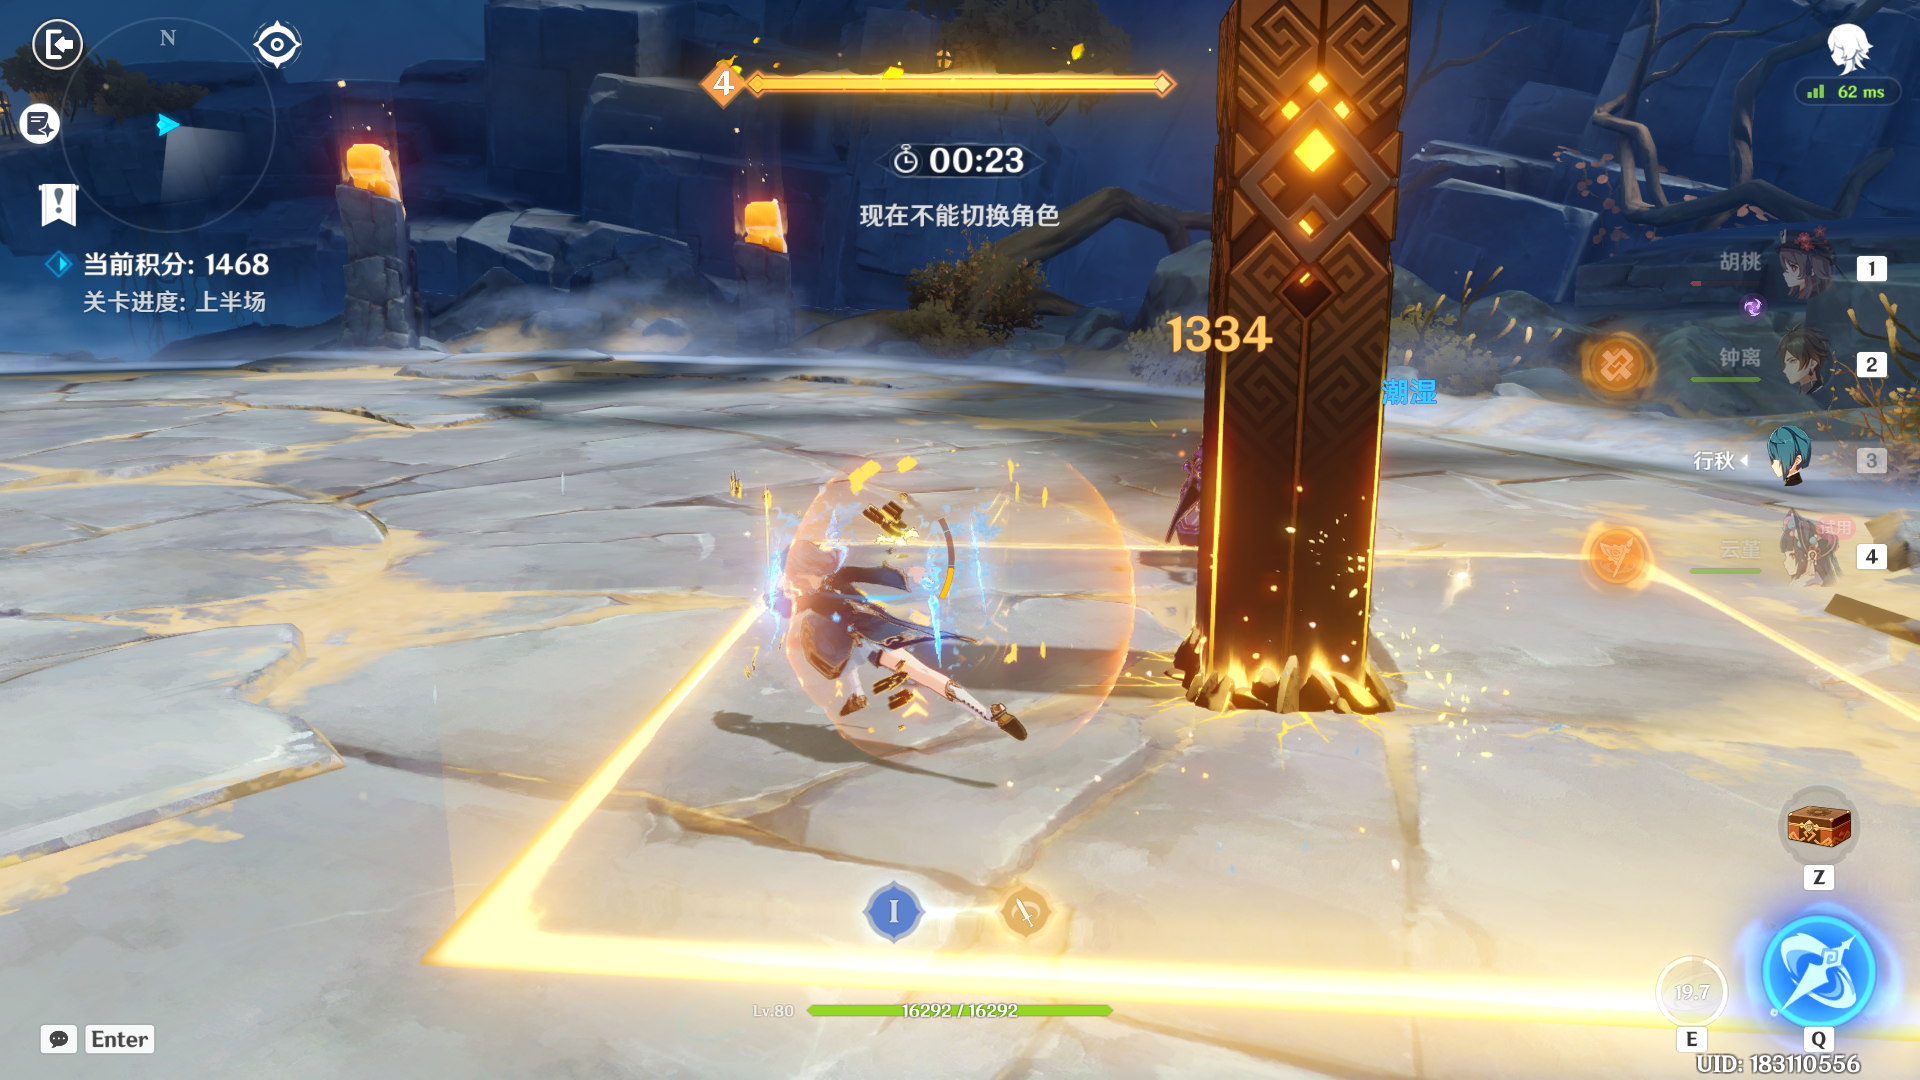character: (717, 475, 1059, 802)
